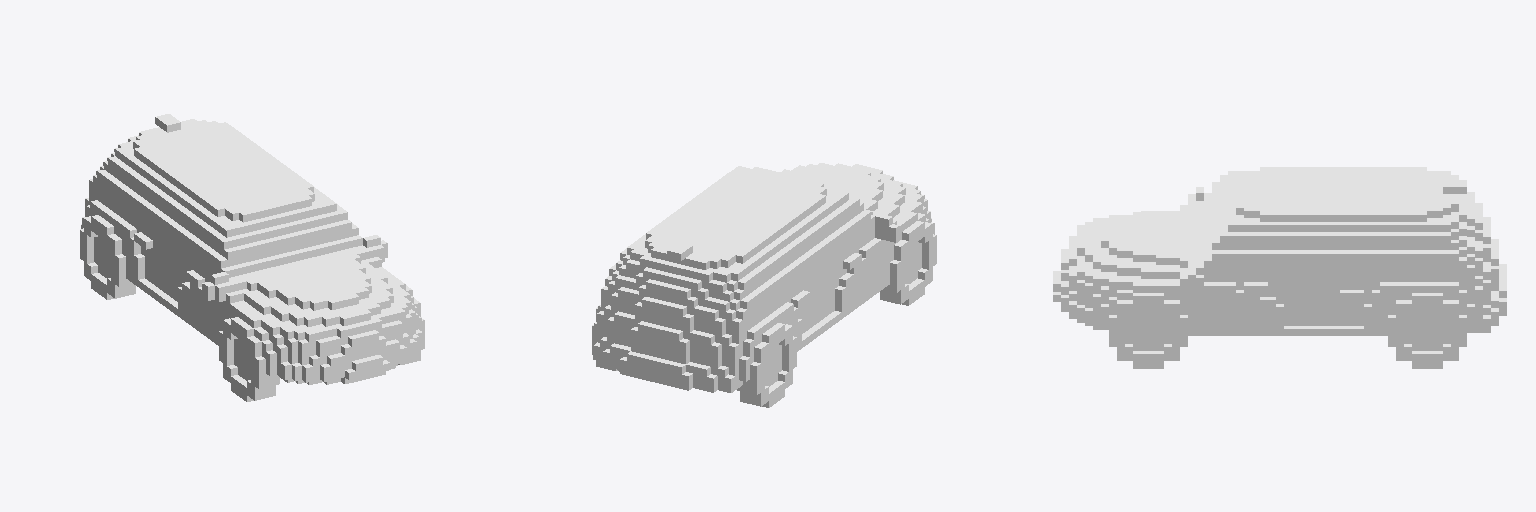
Rendered from AssortedCarsProto.obj.
The picture shows the model from 3 angles: view 1: azimuth 30°, elevation 25°; view 2: azimuth 150°, elevation 25°; view 3: azimuth 270°, elevation 25°; orthographic projection.
Visible parts, largest first — view 1: object 1; view 2: object 1; view 3: object 1.
Part boxes in pixels (left/top/right/bottom): object 1: left=80, top=114, right=424, bottom=401; object 1: left=592, top=163, right=936, bottom=407; object 1: left=1053, top=167, right=1506, bottom=368.
Bounding box in the file's own units: 2.6 × 2 × 5.7.